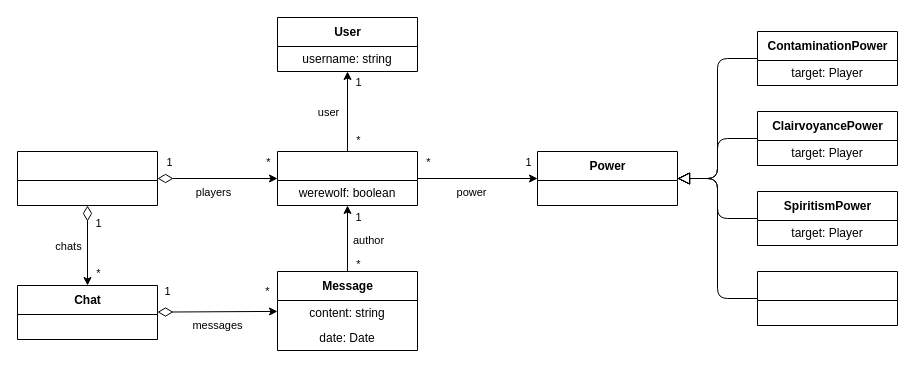
The diagram is 915 pixels wide and 368 high, and some of its shapes have lost their labels. The box of each missing label's shape, as (x1, y1, x2, y2) in pixels:
Game: (16, 150, 158, 206)
InsomniaPower: (756, 270, 898, 326)
Player: (276, 150, 418, 206)
